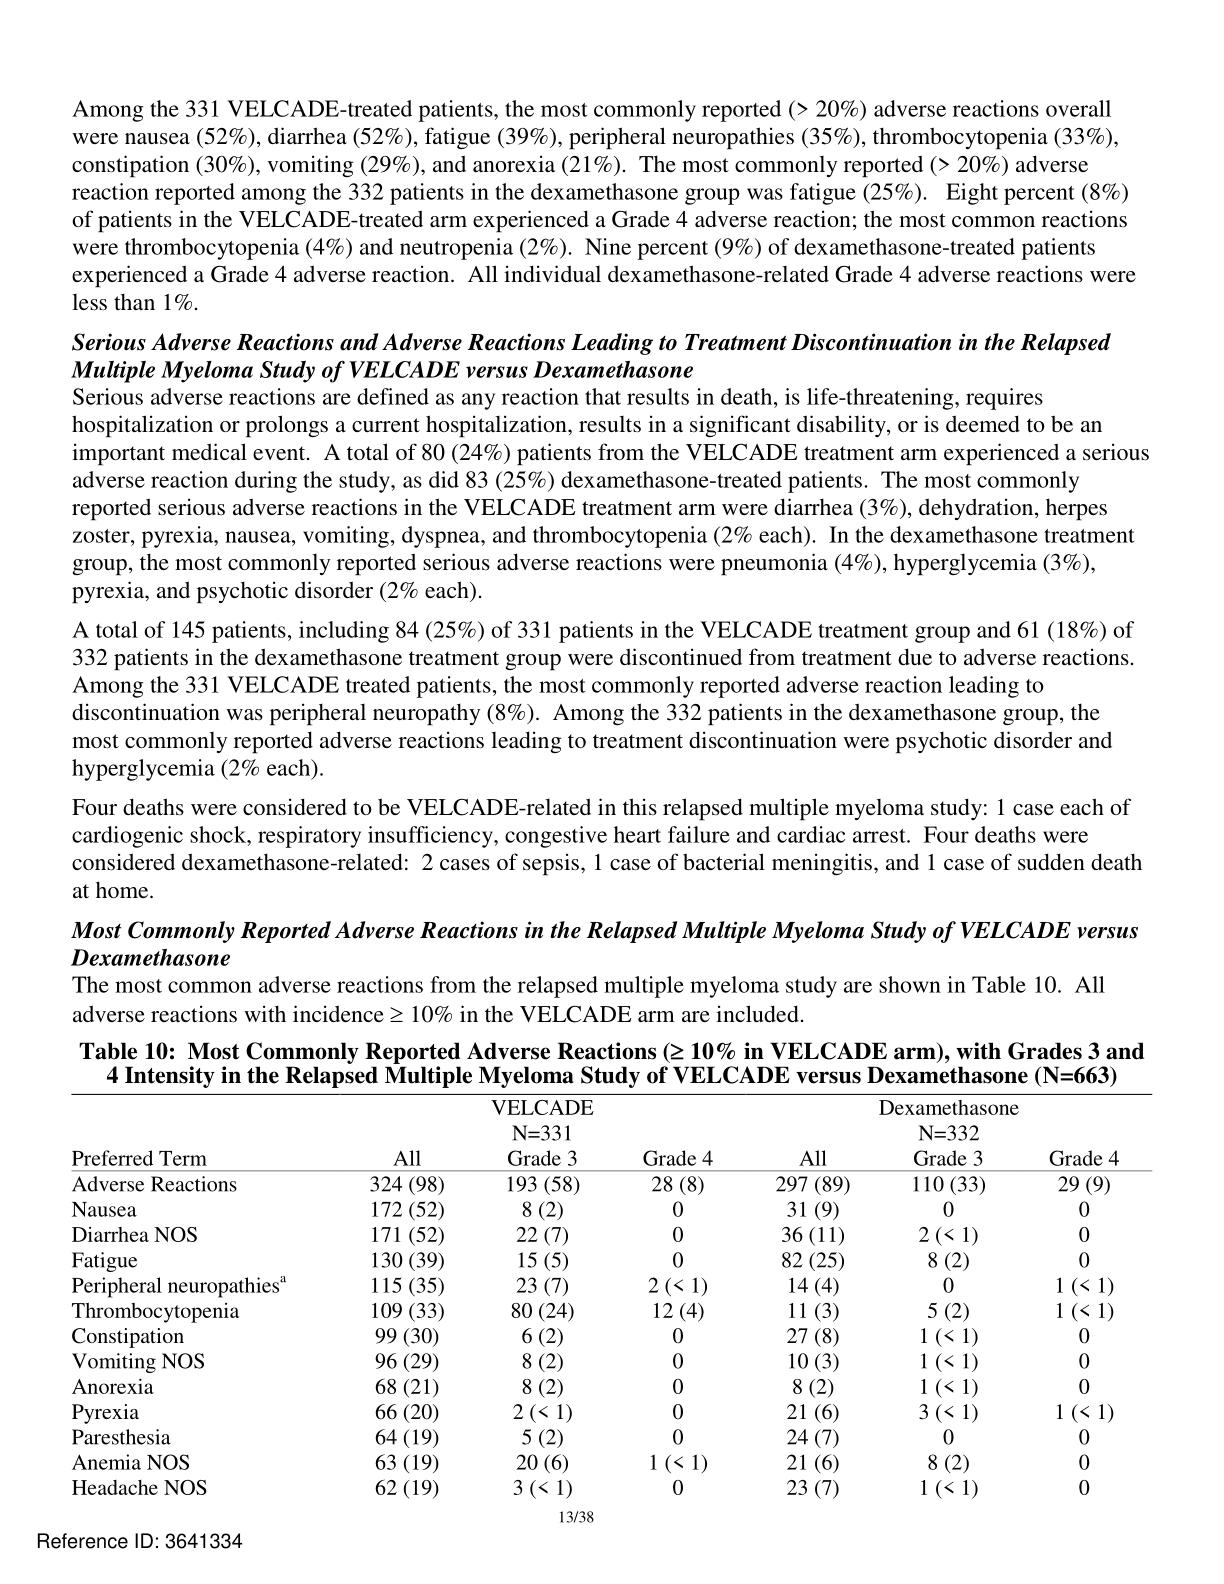partial_lined: (69, 1093, 1155, 1508)
